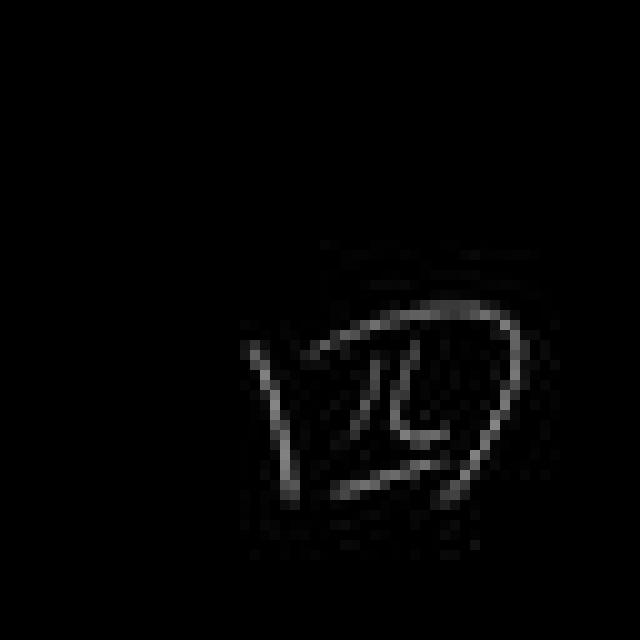4 -four-: (239, 292, 536, 522)
